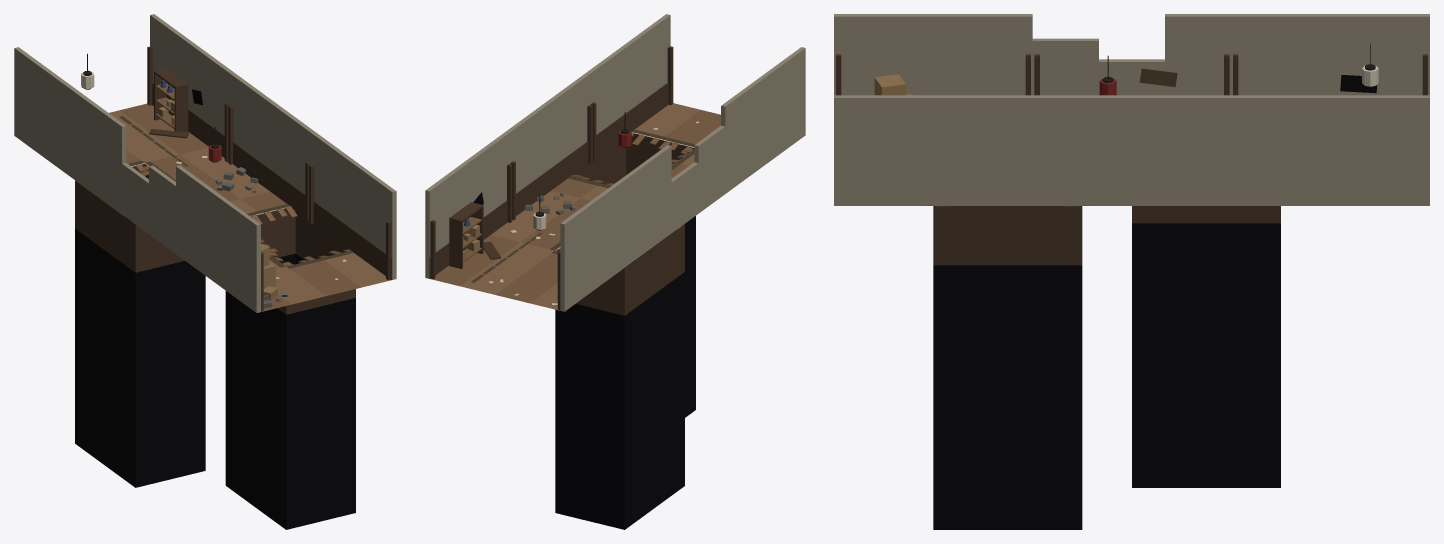
File: -_B_pit.fbx
3 views of the same model, side by side, from view 1: azimuth 30°, elevation 25°; view 2: azimuth 150°, elevation 25°; view 3: azimuth 270°, elevation 25° (orthographic). The views are drawn at different scales.
Visible parts, largest first — view 1: -_B_pit_Deco, -_B_pit; view 2: -_B_pit, -_B_pit_Deco; view 3: -_B_pit, -_B_pit_Deco.
Part boxes in pixels (x1,y1,x2,y2): -_B_pit_Deco: (75,46,392,529); -_B_pit: (14,14,396,312); -_B_pit: (425,14,805,311); -_B_pit_Deco: (429,46,698,529); -_B_pit: (834,14,1429,205); -_B_pit_Deco: (836,43,1427,529).
Size of the model in its own units: 2 by 0.6667 by 1.6.
